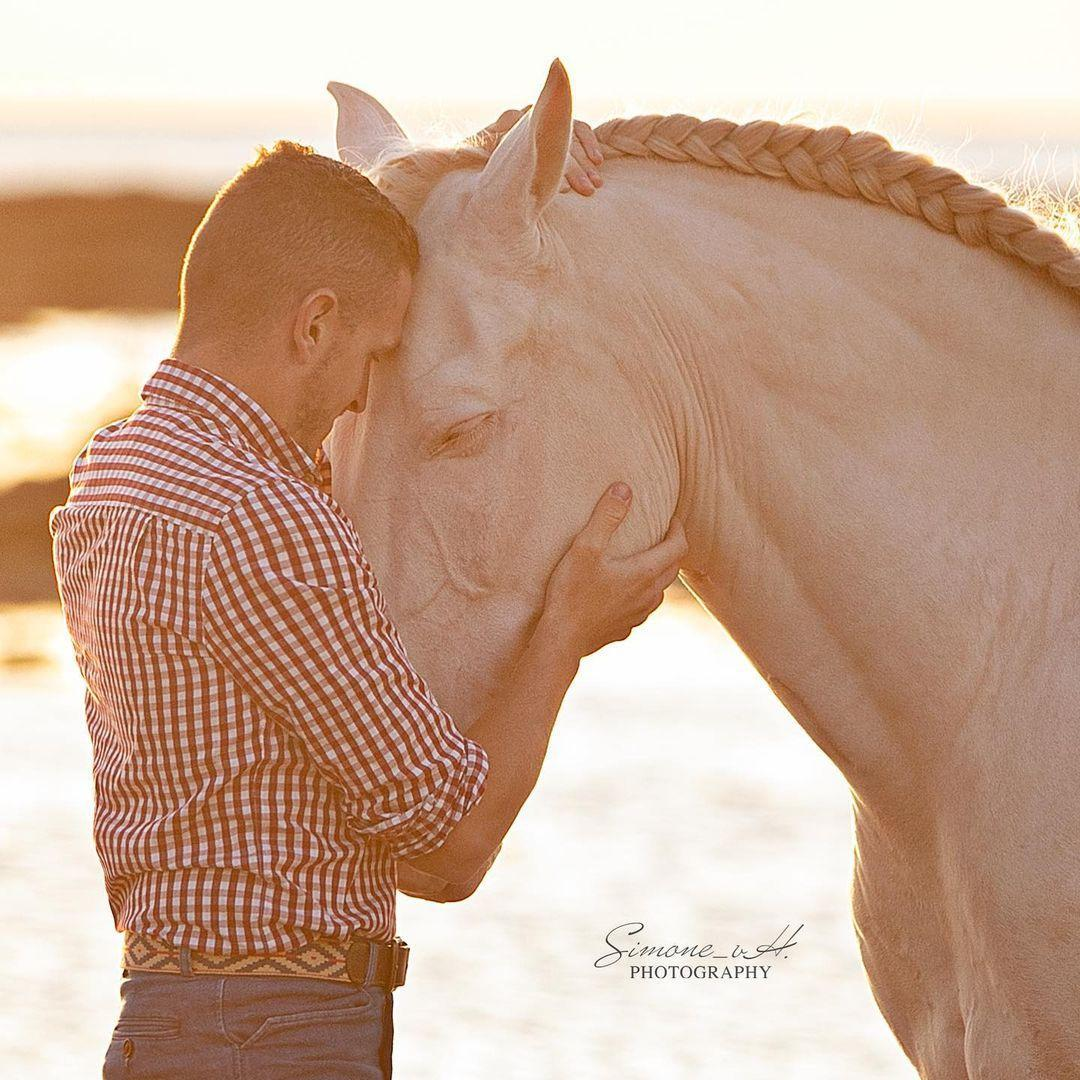horse: (318, 57, 1078, 1078)
